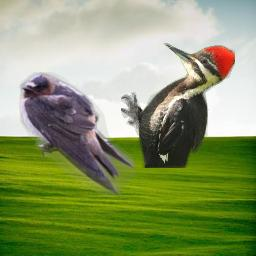Swallow: (18, 72, 136, 196)
Woodpecker: (121, 43, 235, 168)
